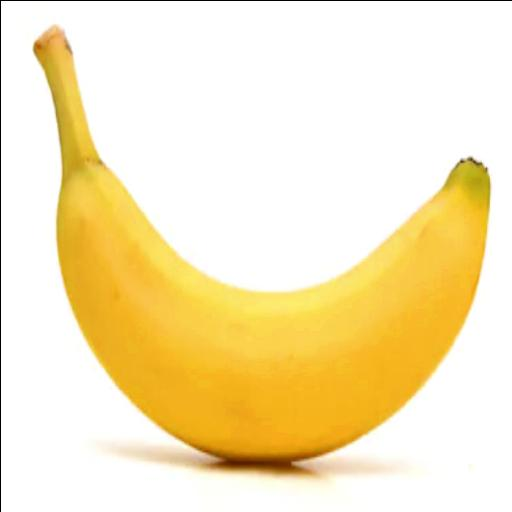banana: (33, 27, 489, 461)
